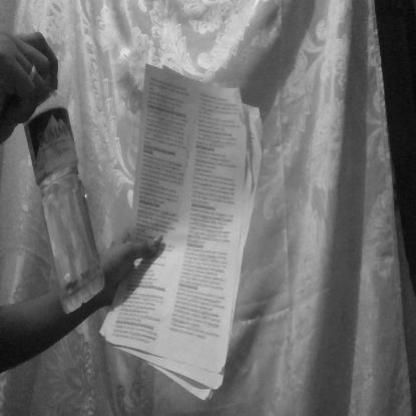Plastic Bottle: (7, 46, 112, 345)
